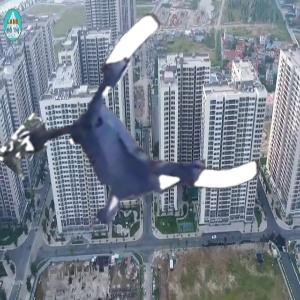drone: (39, 40, 253, 254)
